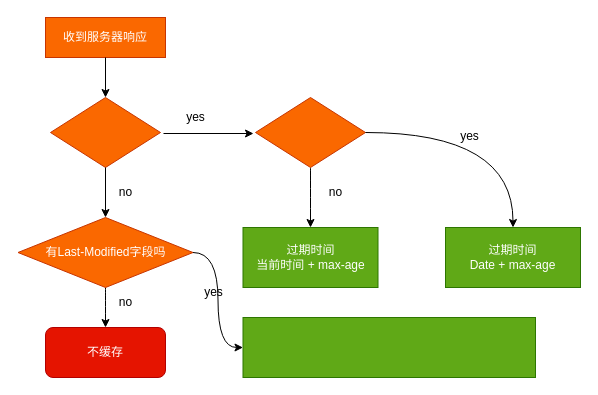
Image size: 598x395. Some labels were removed from this diagram. The centre of each missing label's shape, as x and y in pixels:
有Date字段吗: the point at 310,132
有max-age吗: the point at 105,132
过期时间： (当前时间 - Last-Modified) / 10 作为max-age: the point at 389,347
